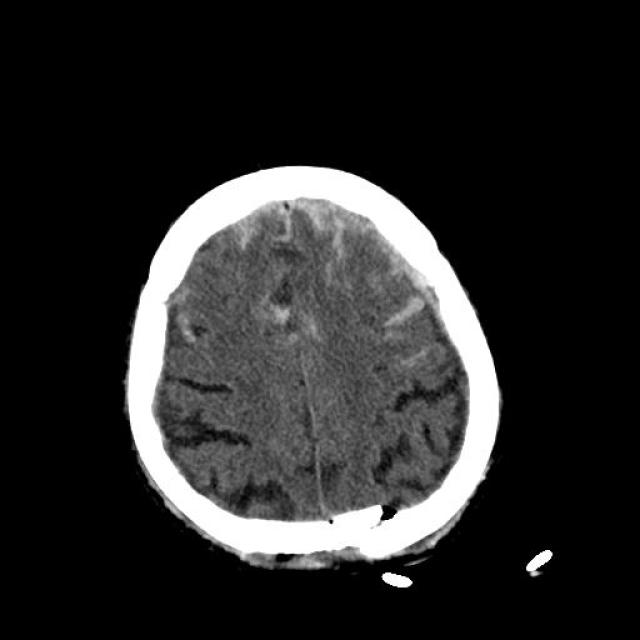Subarachnoid: (227, 196, 315, 252), (144, 296, 202, 359), (395, 290, 444, 340), (322, 216, 352, 285), (393, 344, 438, 386)
Subdural: (301, 192, 421, 254)
